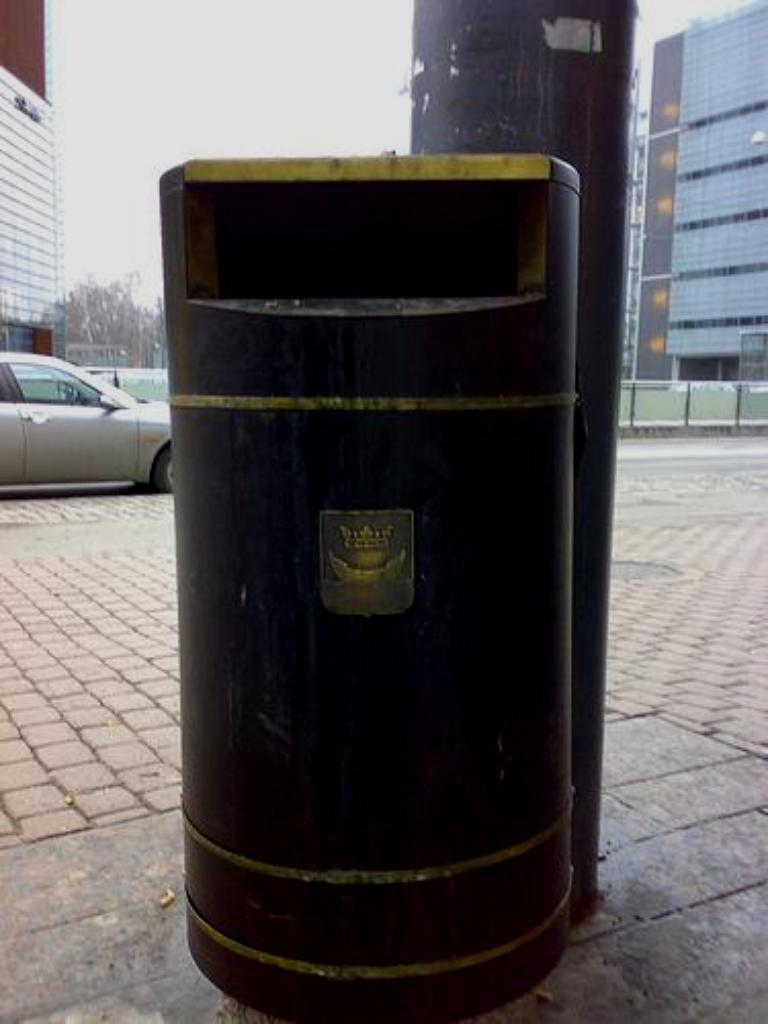dustbin: (154, 158, 604, 993)
